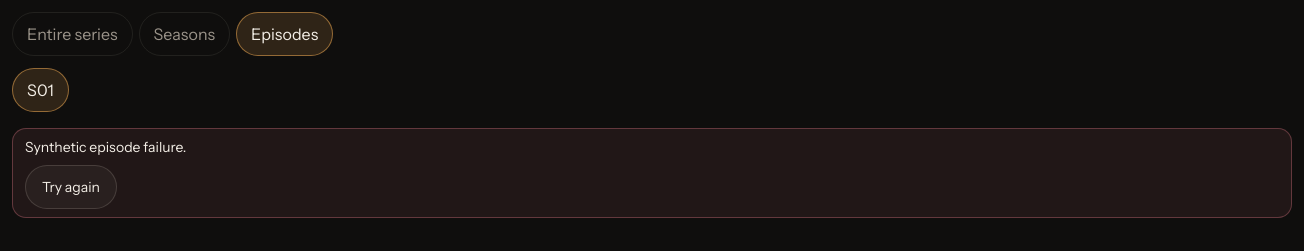
Test: TvRequestPicker › retries an episode load in place after an error
Expected: the message shows "Synthetic episode failure.", [25, 138, 186, 156]
Click the button "Try again" at (71, 187), box [25, 165, 117, 209]
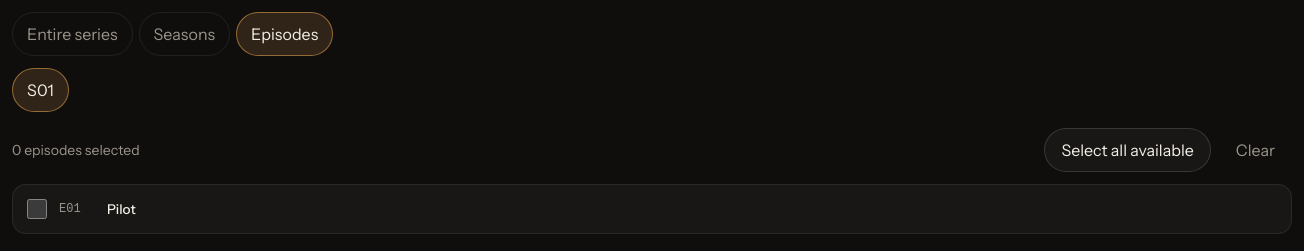
Expected: the text "Pilot" is shown, [107, 201, 136, 217]
